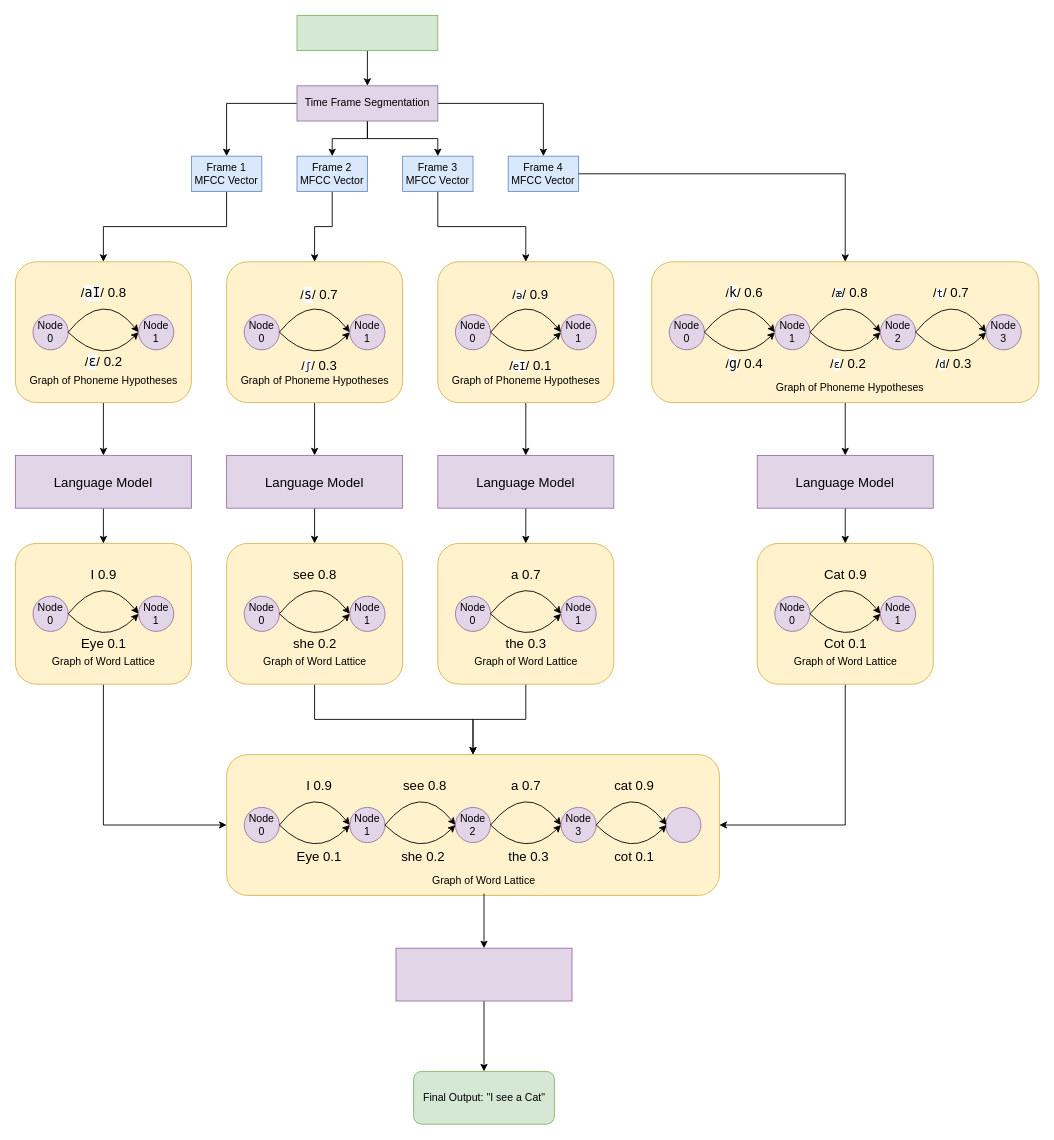
Some shapes in this 1054 by 1140 pixel diagram are drawn without their labels. Each missing label, with the box of its shape:
Best Path Selection: (395, 947, 572, 1001)
Node 4: (665, 807, 701, 843)
Speech: "I see a cat": (296, 15, 438, 51)
